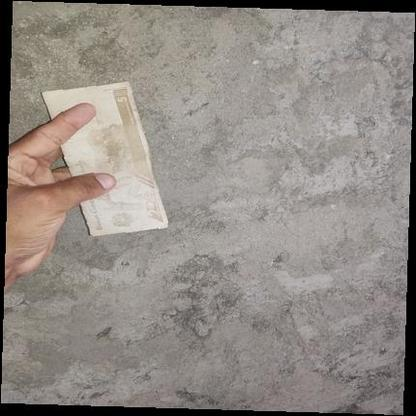five-back-vef: (40, 81, 169, 236)
